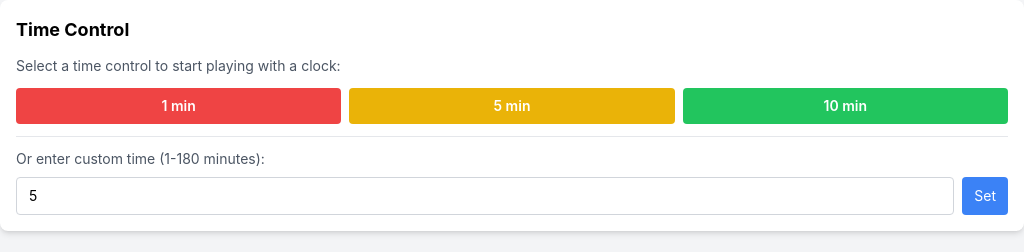
Test: Chess Timer Tests › Timer Button Tests › 5 minute timer button sets correct time
Note: Click the 5 minute button
Click the button "5 min" at (512, 106), box [349,88,675,124]
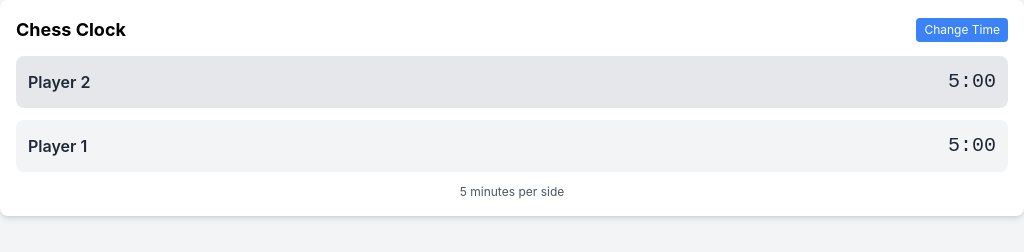
expect the text "5:00" is shown 2 times: met, box [948,68,996,96]; [948,132,996,160]
